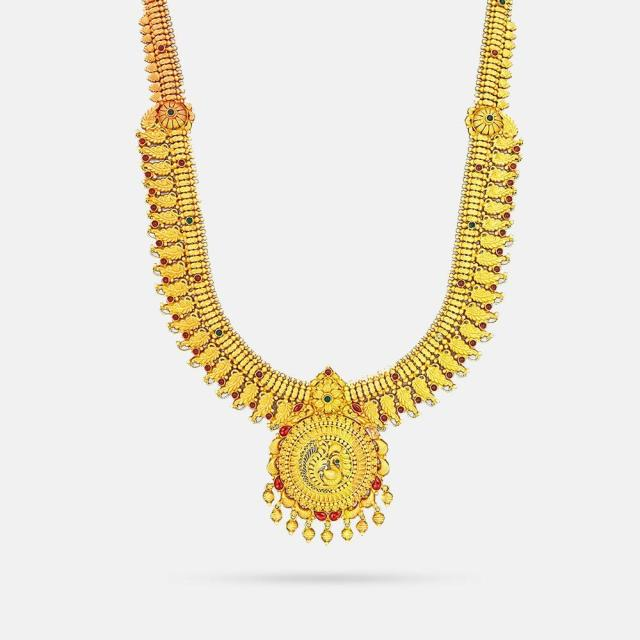missing gem: (365, 427, 379, 438), (436, 333, 442, 340)
